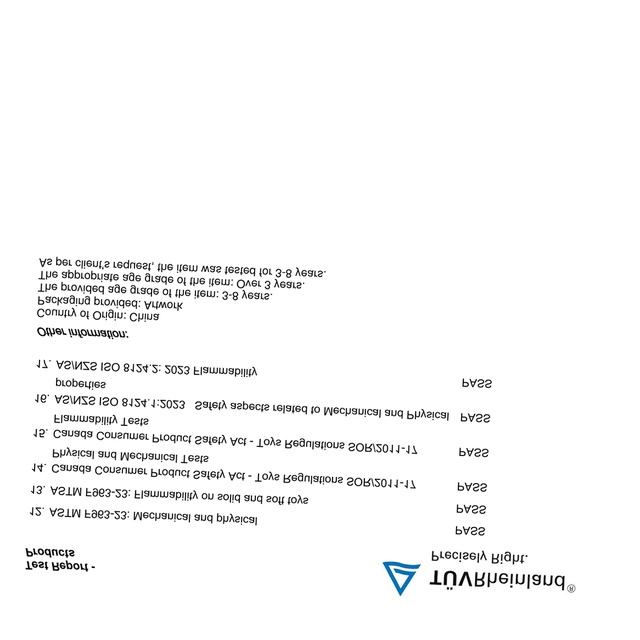tuv_rheinland: (382, 557, 577, 602)
